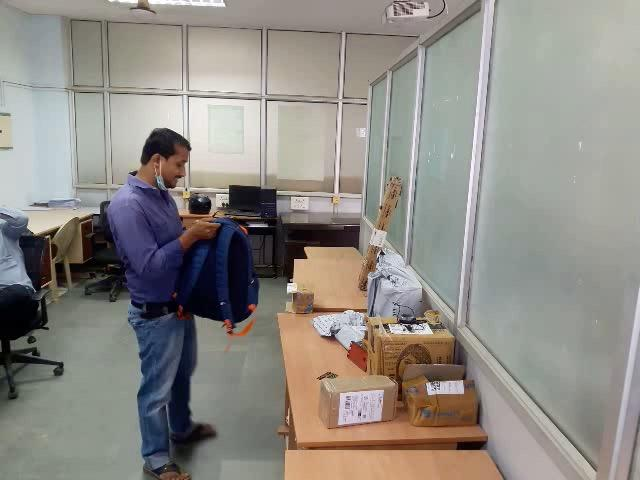shoplifting: (90, 179, 307, 365)
